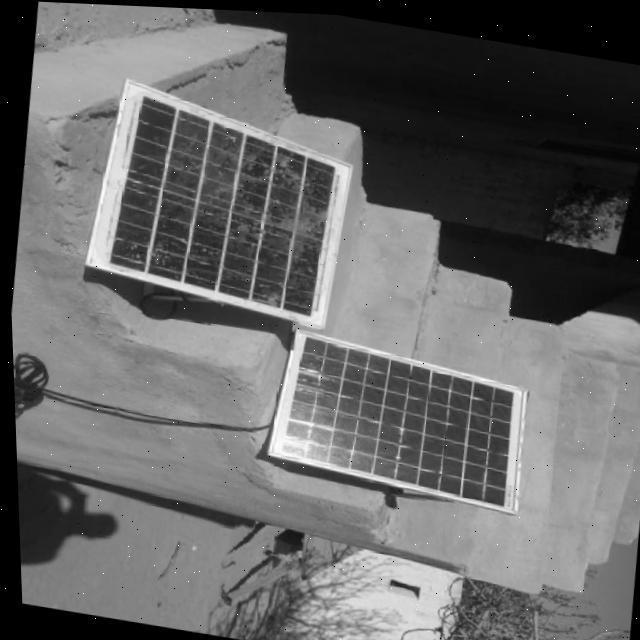Normal Solar Panel: (257, 323, 529, 510)
